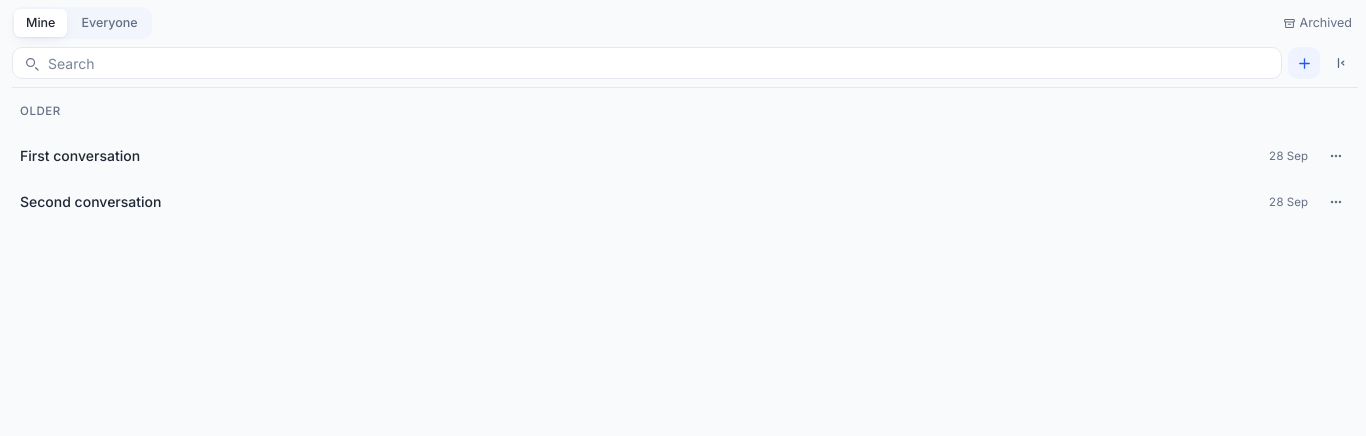
Test: ChatSidebar › floats the row menu on top of the list, outside it, with Delete set apart
Click the button named "Actions for First conversation" at point(1336, 156), box [1318,138,1354,174]
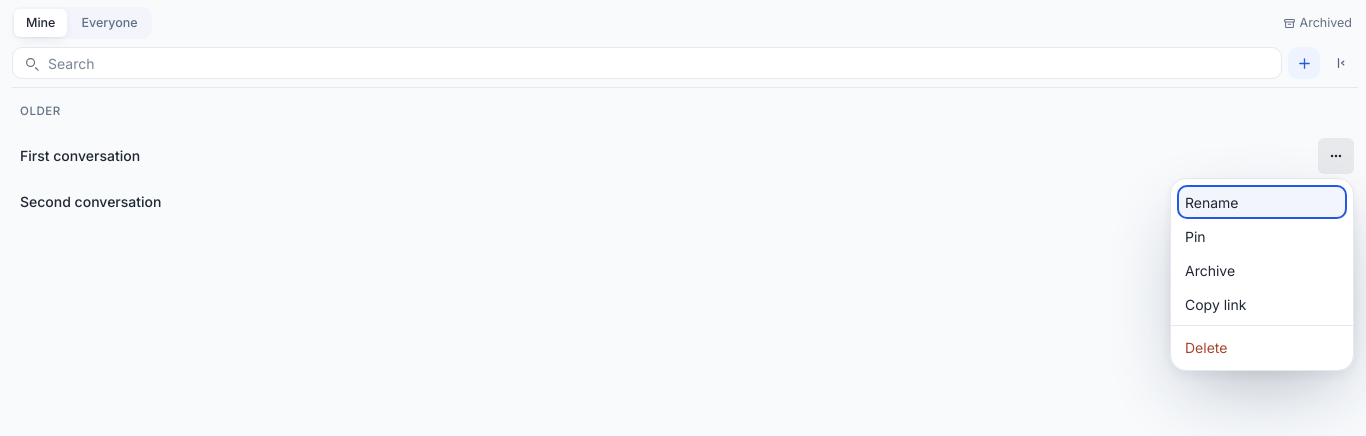
Press Escape in the menu item "Rename", box [1177,185,1347,219]
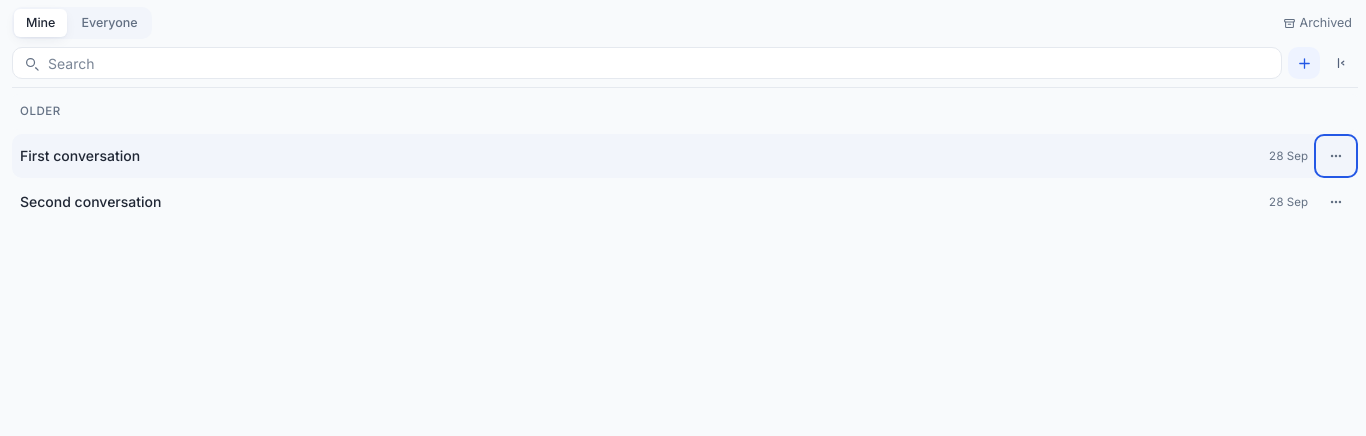
Check: the link "First conversation 28 Sep" is shown, box [20,147,1308,164]
Check: the menu is gone
